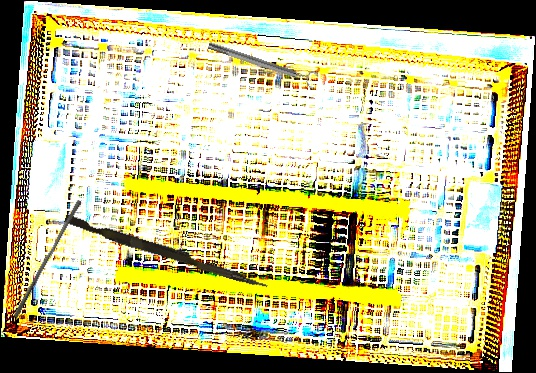Fixation Ring: (206, 36, 319, 90)
Pusher: (62, 214, 271, 290), (12, 197, 83, 321)
